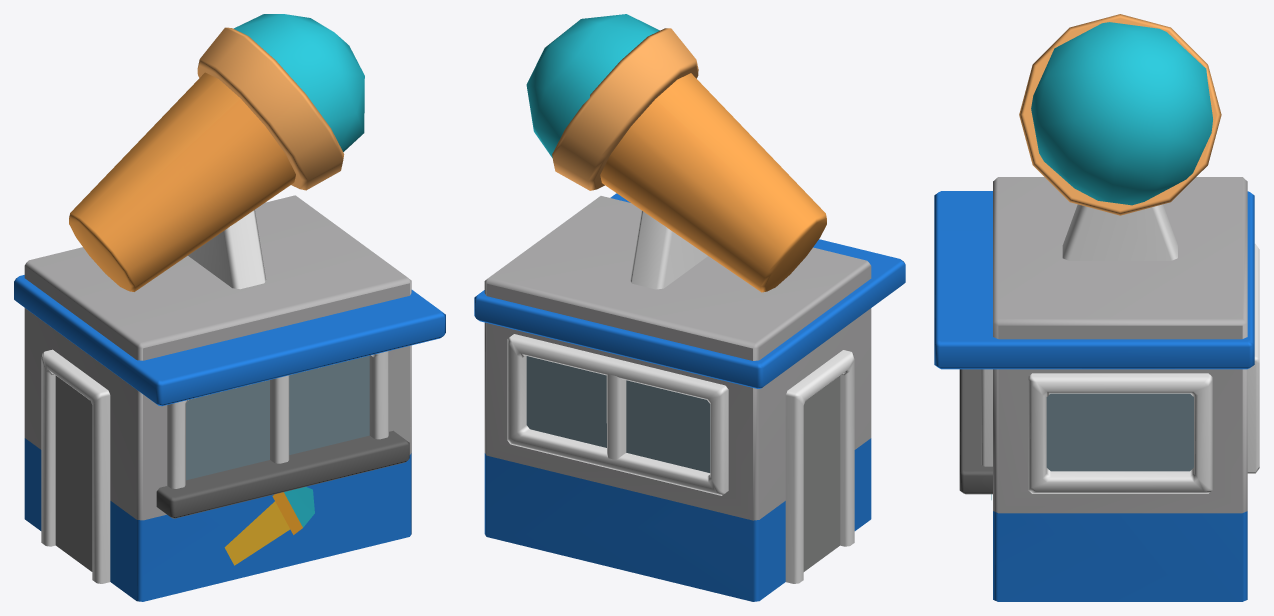
File: stall_006.gltf
3 views of the same model, side by side, from view 1: azimuth 30°, elevation 25°; view 2: azimuth 150°, elevation 25°; view 3: azimuth 270°, elevation 25° (orthographic). The views are drawn at different scales.
Parts seen in each view (by area): view 1: stall_006; view 2: stall_006; view 3: stall_006.
Part boxes in pixels (left/top/right/bottom): stall_006: left=14, top=14, right=445, bottom=601; stall_006: left=474, top=14, right=905, bottom=601; stall_006: left=934, top=14, right=1259, bottom=601.
Bounding box in the file's own units: 3.34 × 5.28 × 2.91.
Materials: 1 (1 with a texture image).
